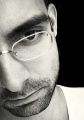male: (1, 14, 60, 115)
